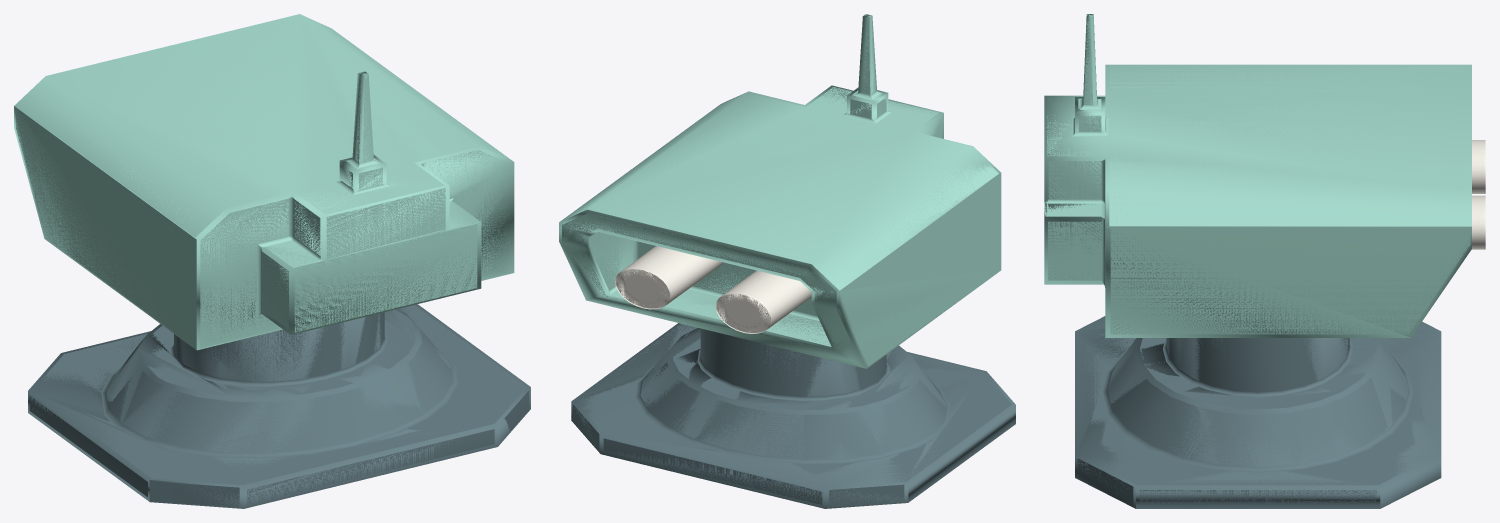
File: space-kit__turret_single.glb
The picture shows the model from 3 angles, left to right: view 1: azimuth 30°, elevation 25°; view 2: azimuth 150°, elevation 25°; view 3: azimuth 270°, elevation 25°; orthographic projection. The views are drawn at different scales.
Parts seen in each view (by area): view 1: L0_accent, L1_accent, L0_dark, L1_dark; view 2: L0_accent, L1_accent, L0_dark, L1_dark, L0_ivory, L1_ivory; view 3: L0_accent, L1_accent, L0_dark, L1_dark, L0_ivory, L1_ivory.
Boxes of the visible parts, x1,y1,x2,y2 form: L0_accent: (16, 15, 510, 347); L1_accent: (14, 14, 514, 350); L0_dark: (29, 305, 529, 507); L1_dark: (28, 304, 530, 508); L0_accent: (562, 21, 999, 366); L1_accent: (559, 14, 1001, 368); L0_dark: (572, 324, 1011, 507); L1_dark: (571, 323, 1015, 508); L0_ivory: (615, 246, 811, 332); L1_ivory: (615, 247, 811, 333); L0_accent: (1044, 21, 1470, 334); L1_accent: (1044, 14, 1471, 337); L0_dark: (1077, 331, 1434, 506); L1_dark: (1075, 316, 1441, 508); L0_ivory: (1472, 140, 1484, 249); L1_ivory: (1472, 140, 1485, 249).
Bounding box in the file's own units: 1 × 1 × 1.
